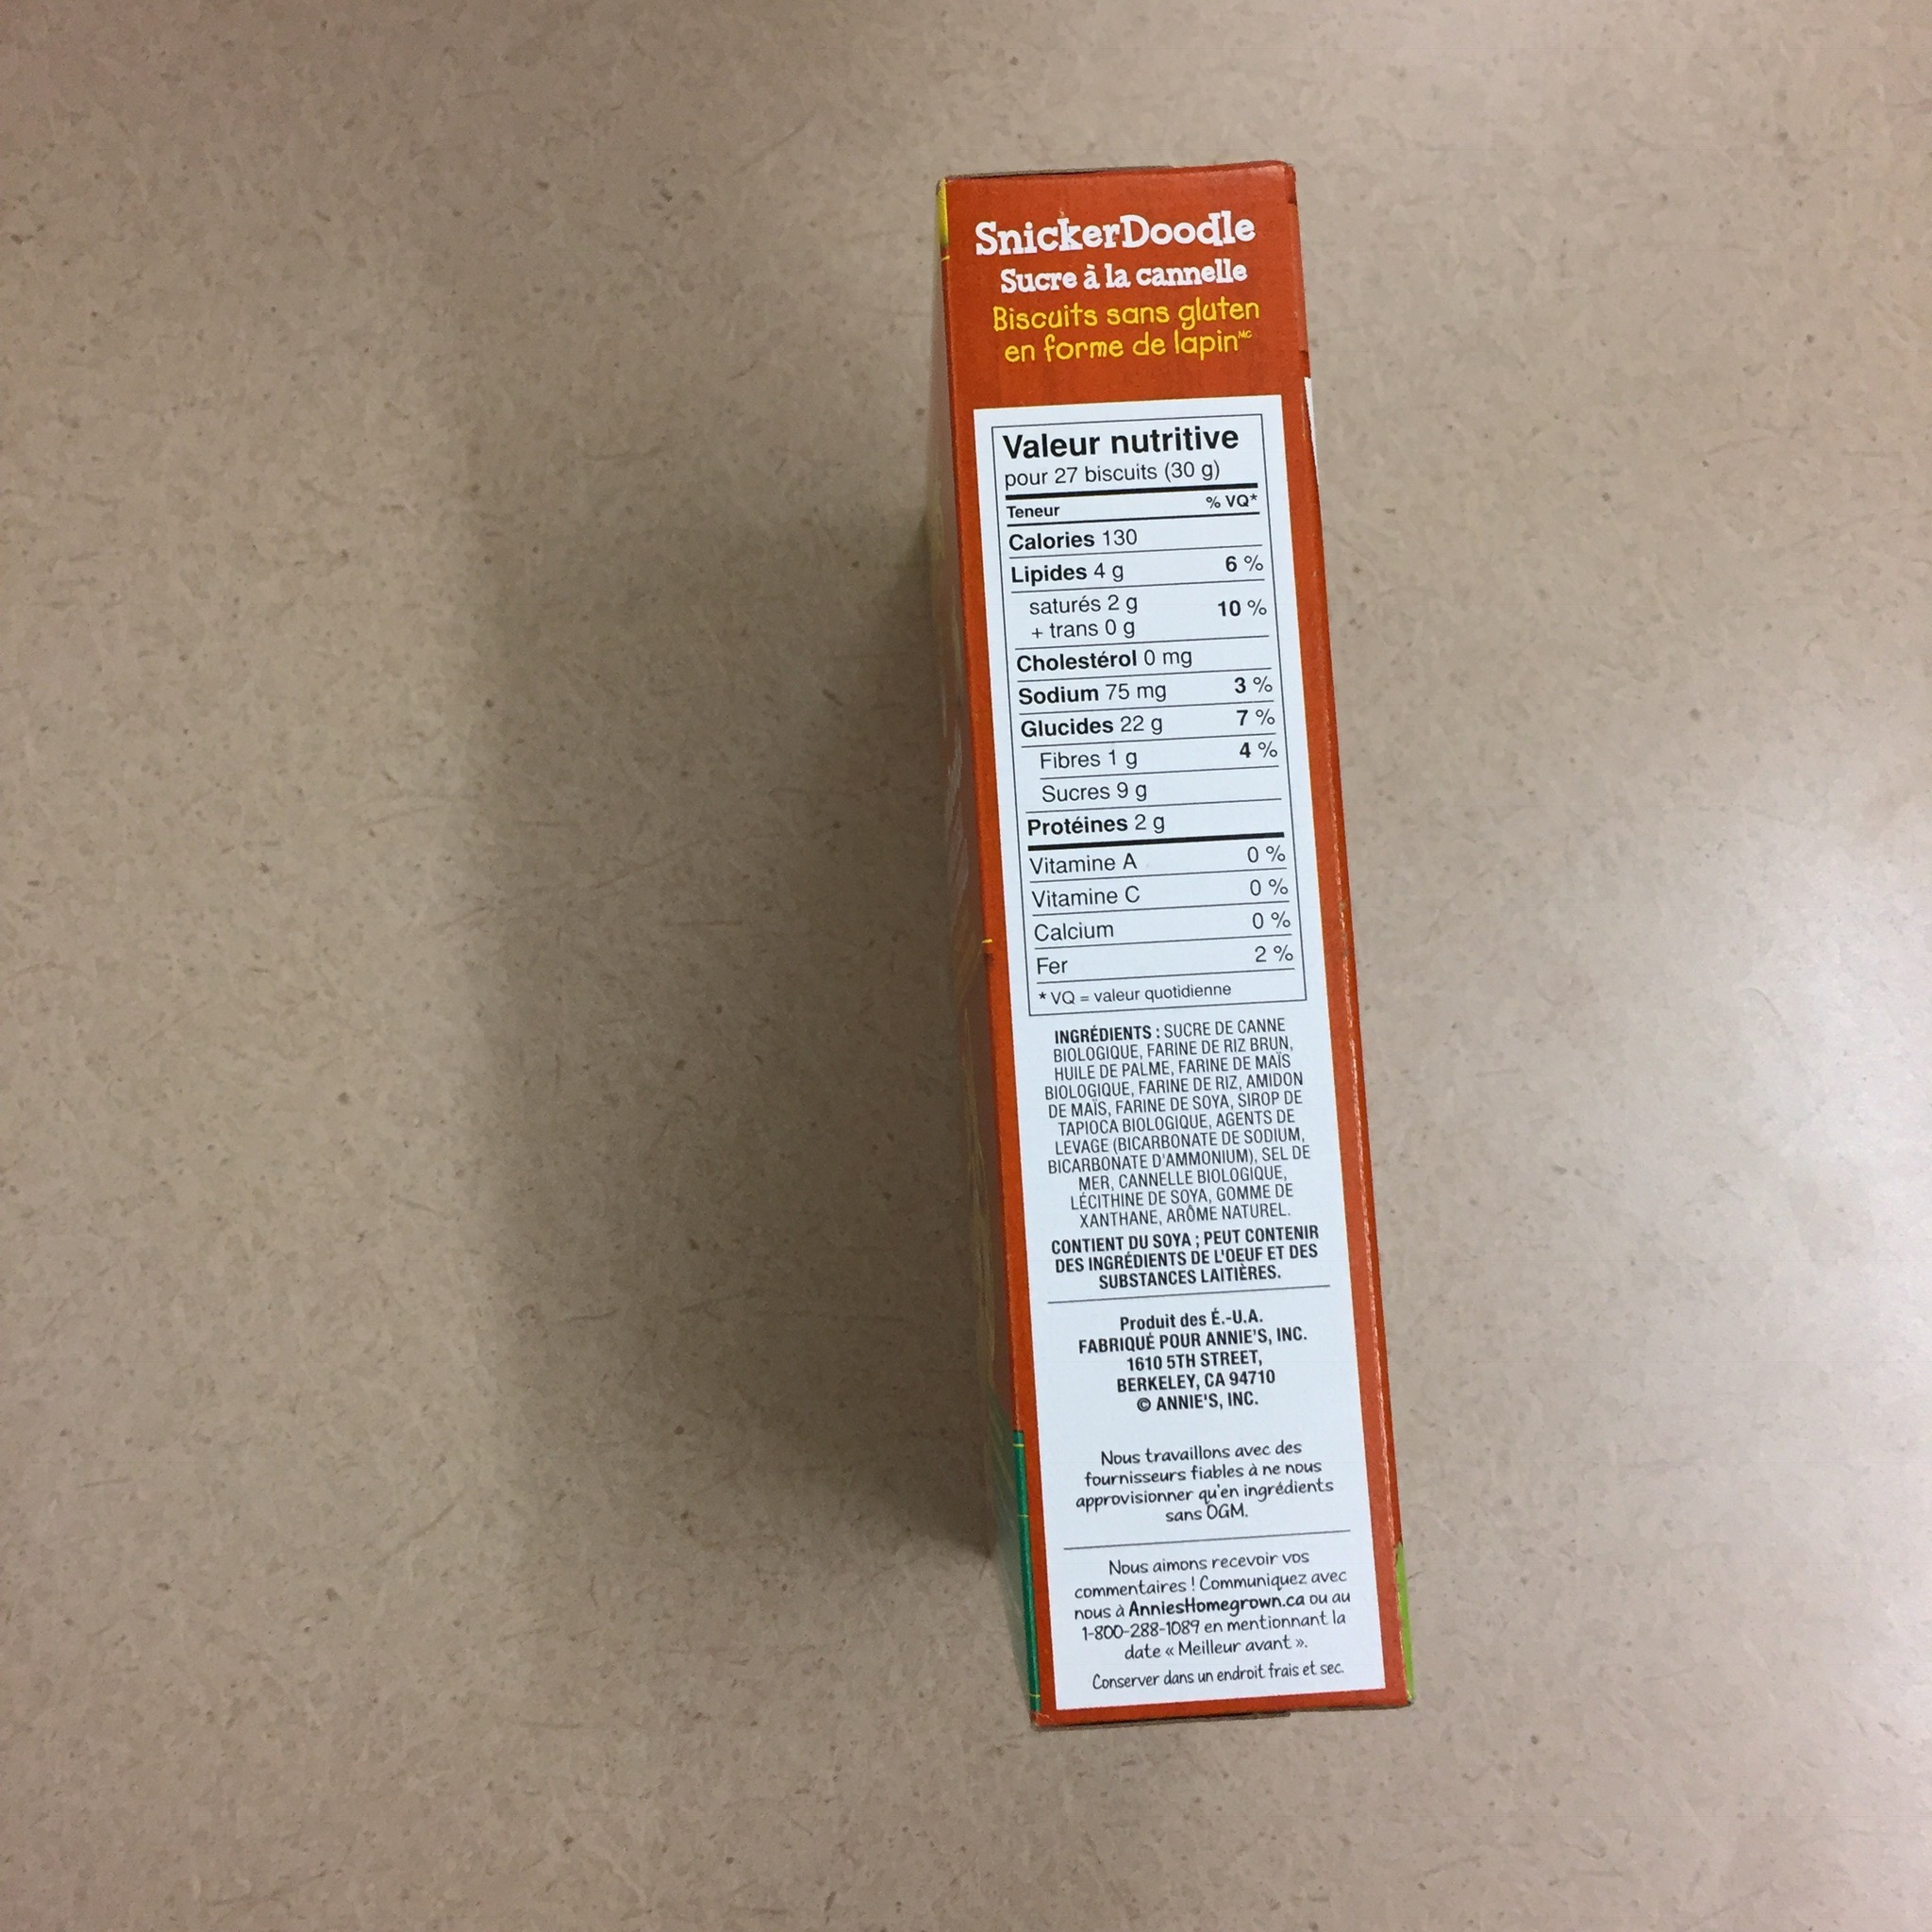annies_snickerdoodle_cinnamon_sugar: (927, 154, 1419, 1736)
